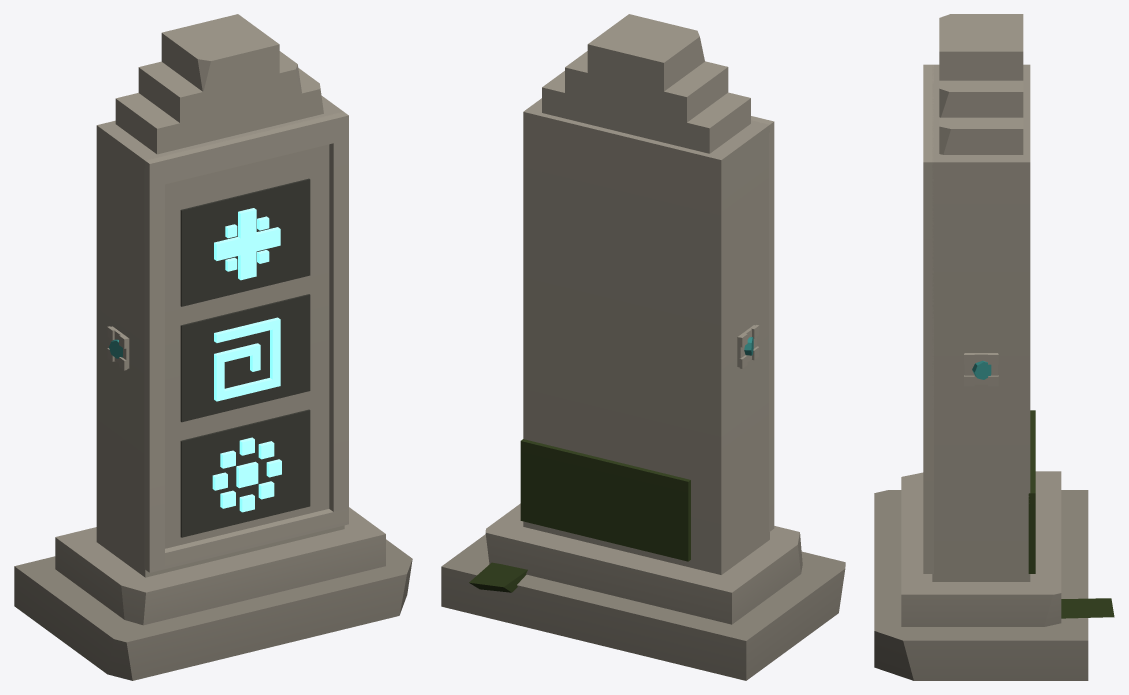
Rendered from zr_glyph_stele.glb.
3 views of the same model, side by side, from view 1: azimuth 30°, elevation 25°; view 2: azimuth 150°, elevation 25°; view 3: azimuth 270°, elevation 25° (orthographic).
Visible parts, largest first — view 1: zr_glyph_stele; view 2: zr_glyph_stele; view 3: zr_glyph_stele.
Boxes of the visible parts, x1,y1,x2,y2 form: zr_glyph_stele: (14,14,412,680); zr_glyph_stele: (441,14,845,680); zr_glyph_stele: (874,14,1114,680).
Size of what is drawn, in the model's own units: 2 by 3.55 by 1.35.
